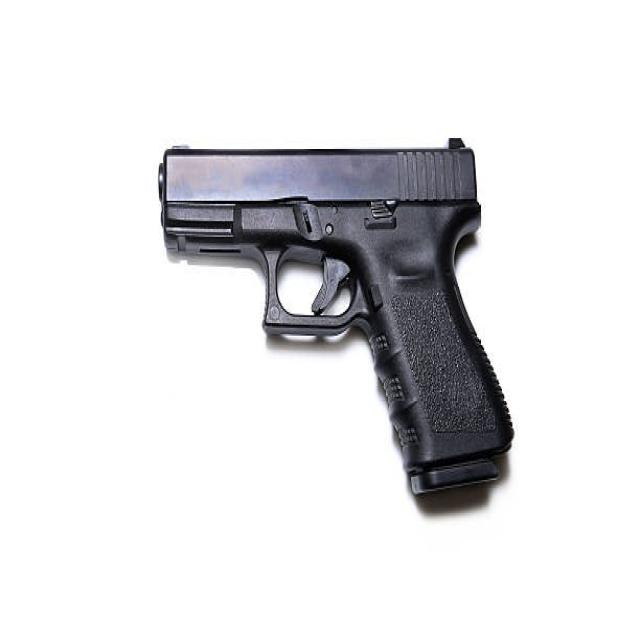pistol: (157, 131, 520, 499)
